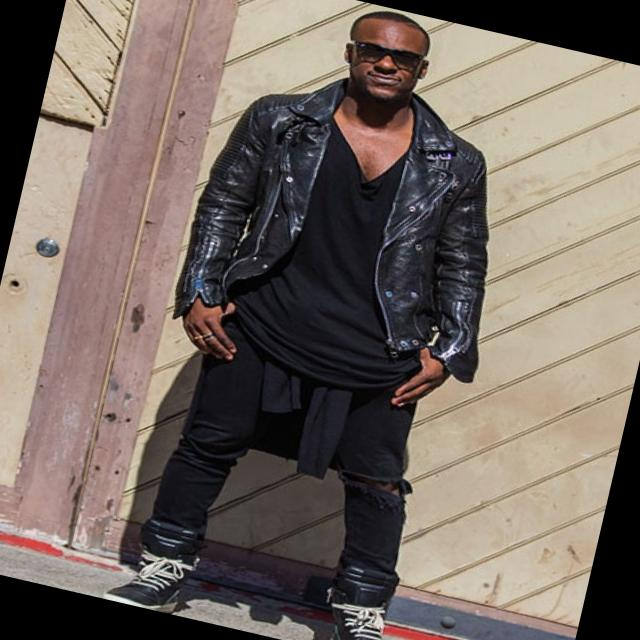Jacket: (156, 56, 528, 415)
